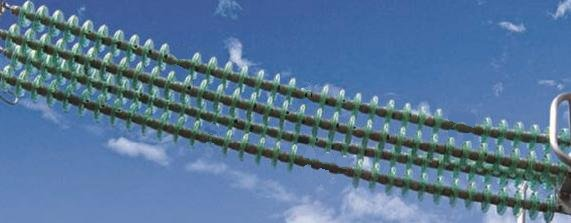gap: (286, 144, 363, 192), (156, 42, 203, 82), (284, 75, 330, 114)
